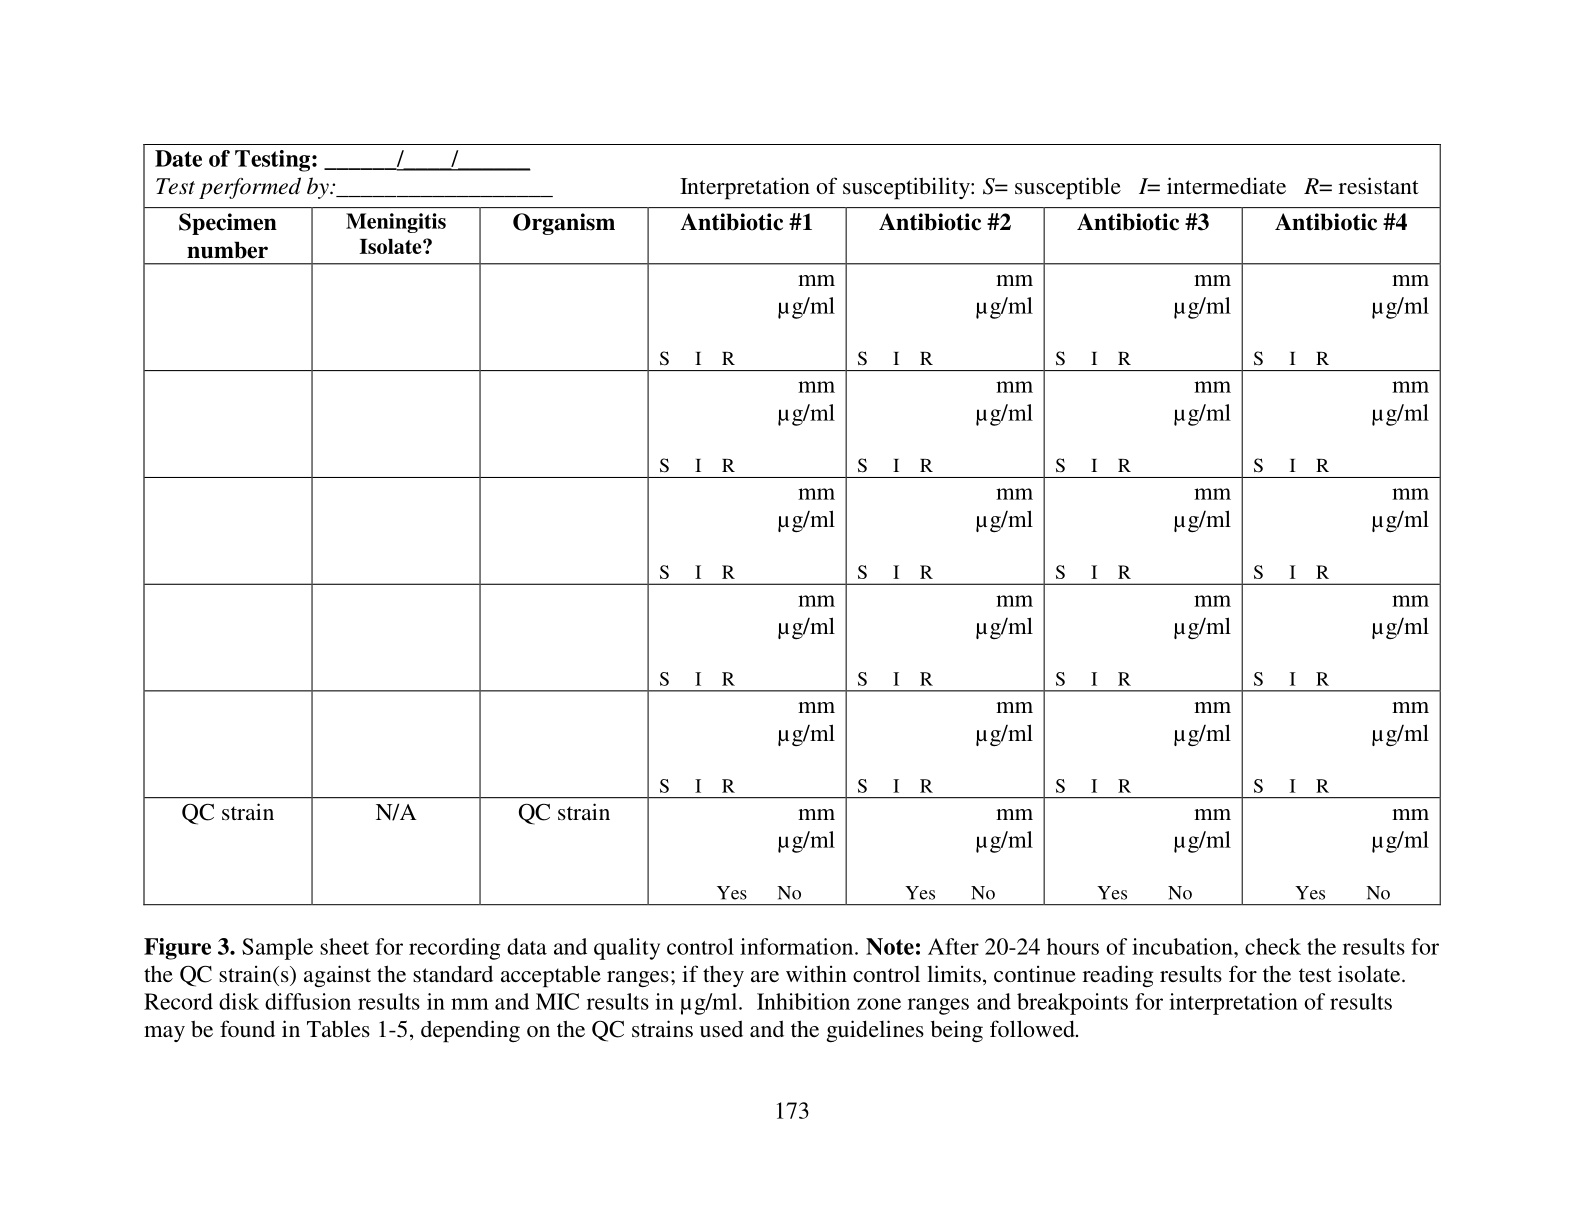merged_cells: (143, 143, 1441, 906)
